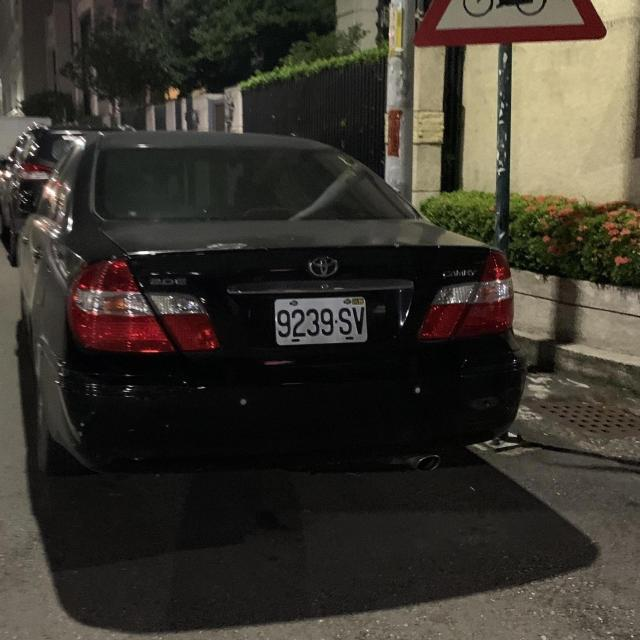W: (267, 285, 375, 354)
